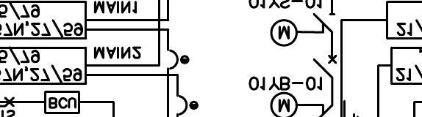115_1way_ds_w_motor: (270, 13, 336, 47)
115_breaker: (313, 55, 337, 78)
BCU: (44, 90, 81, 114)
